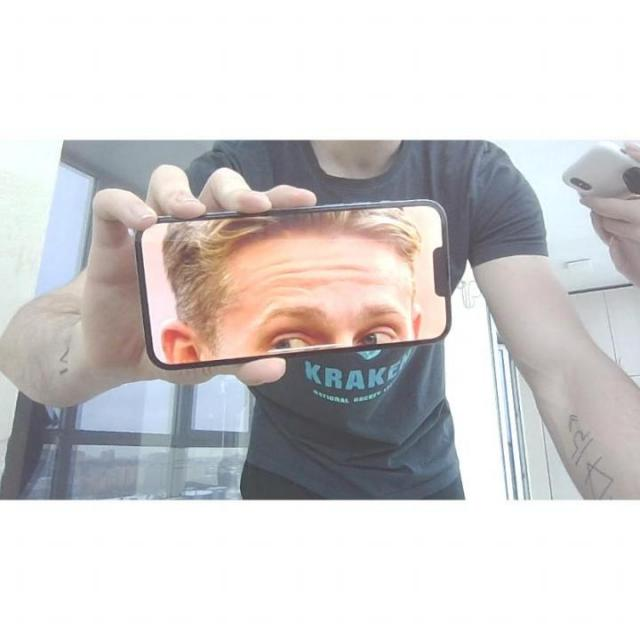device: (132, 198, 456, 374)
